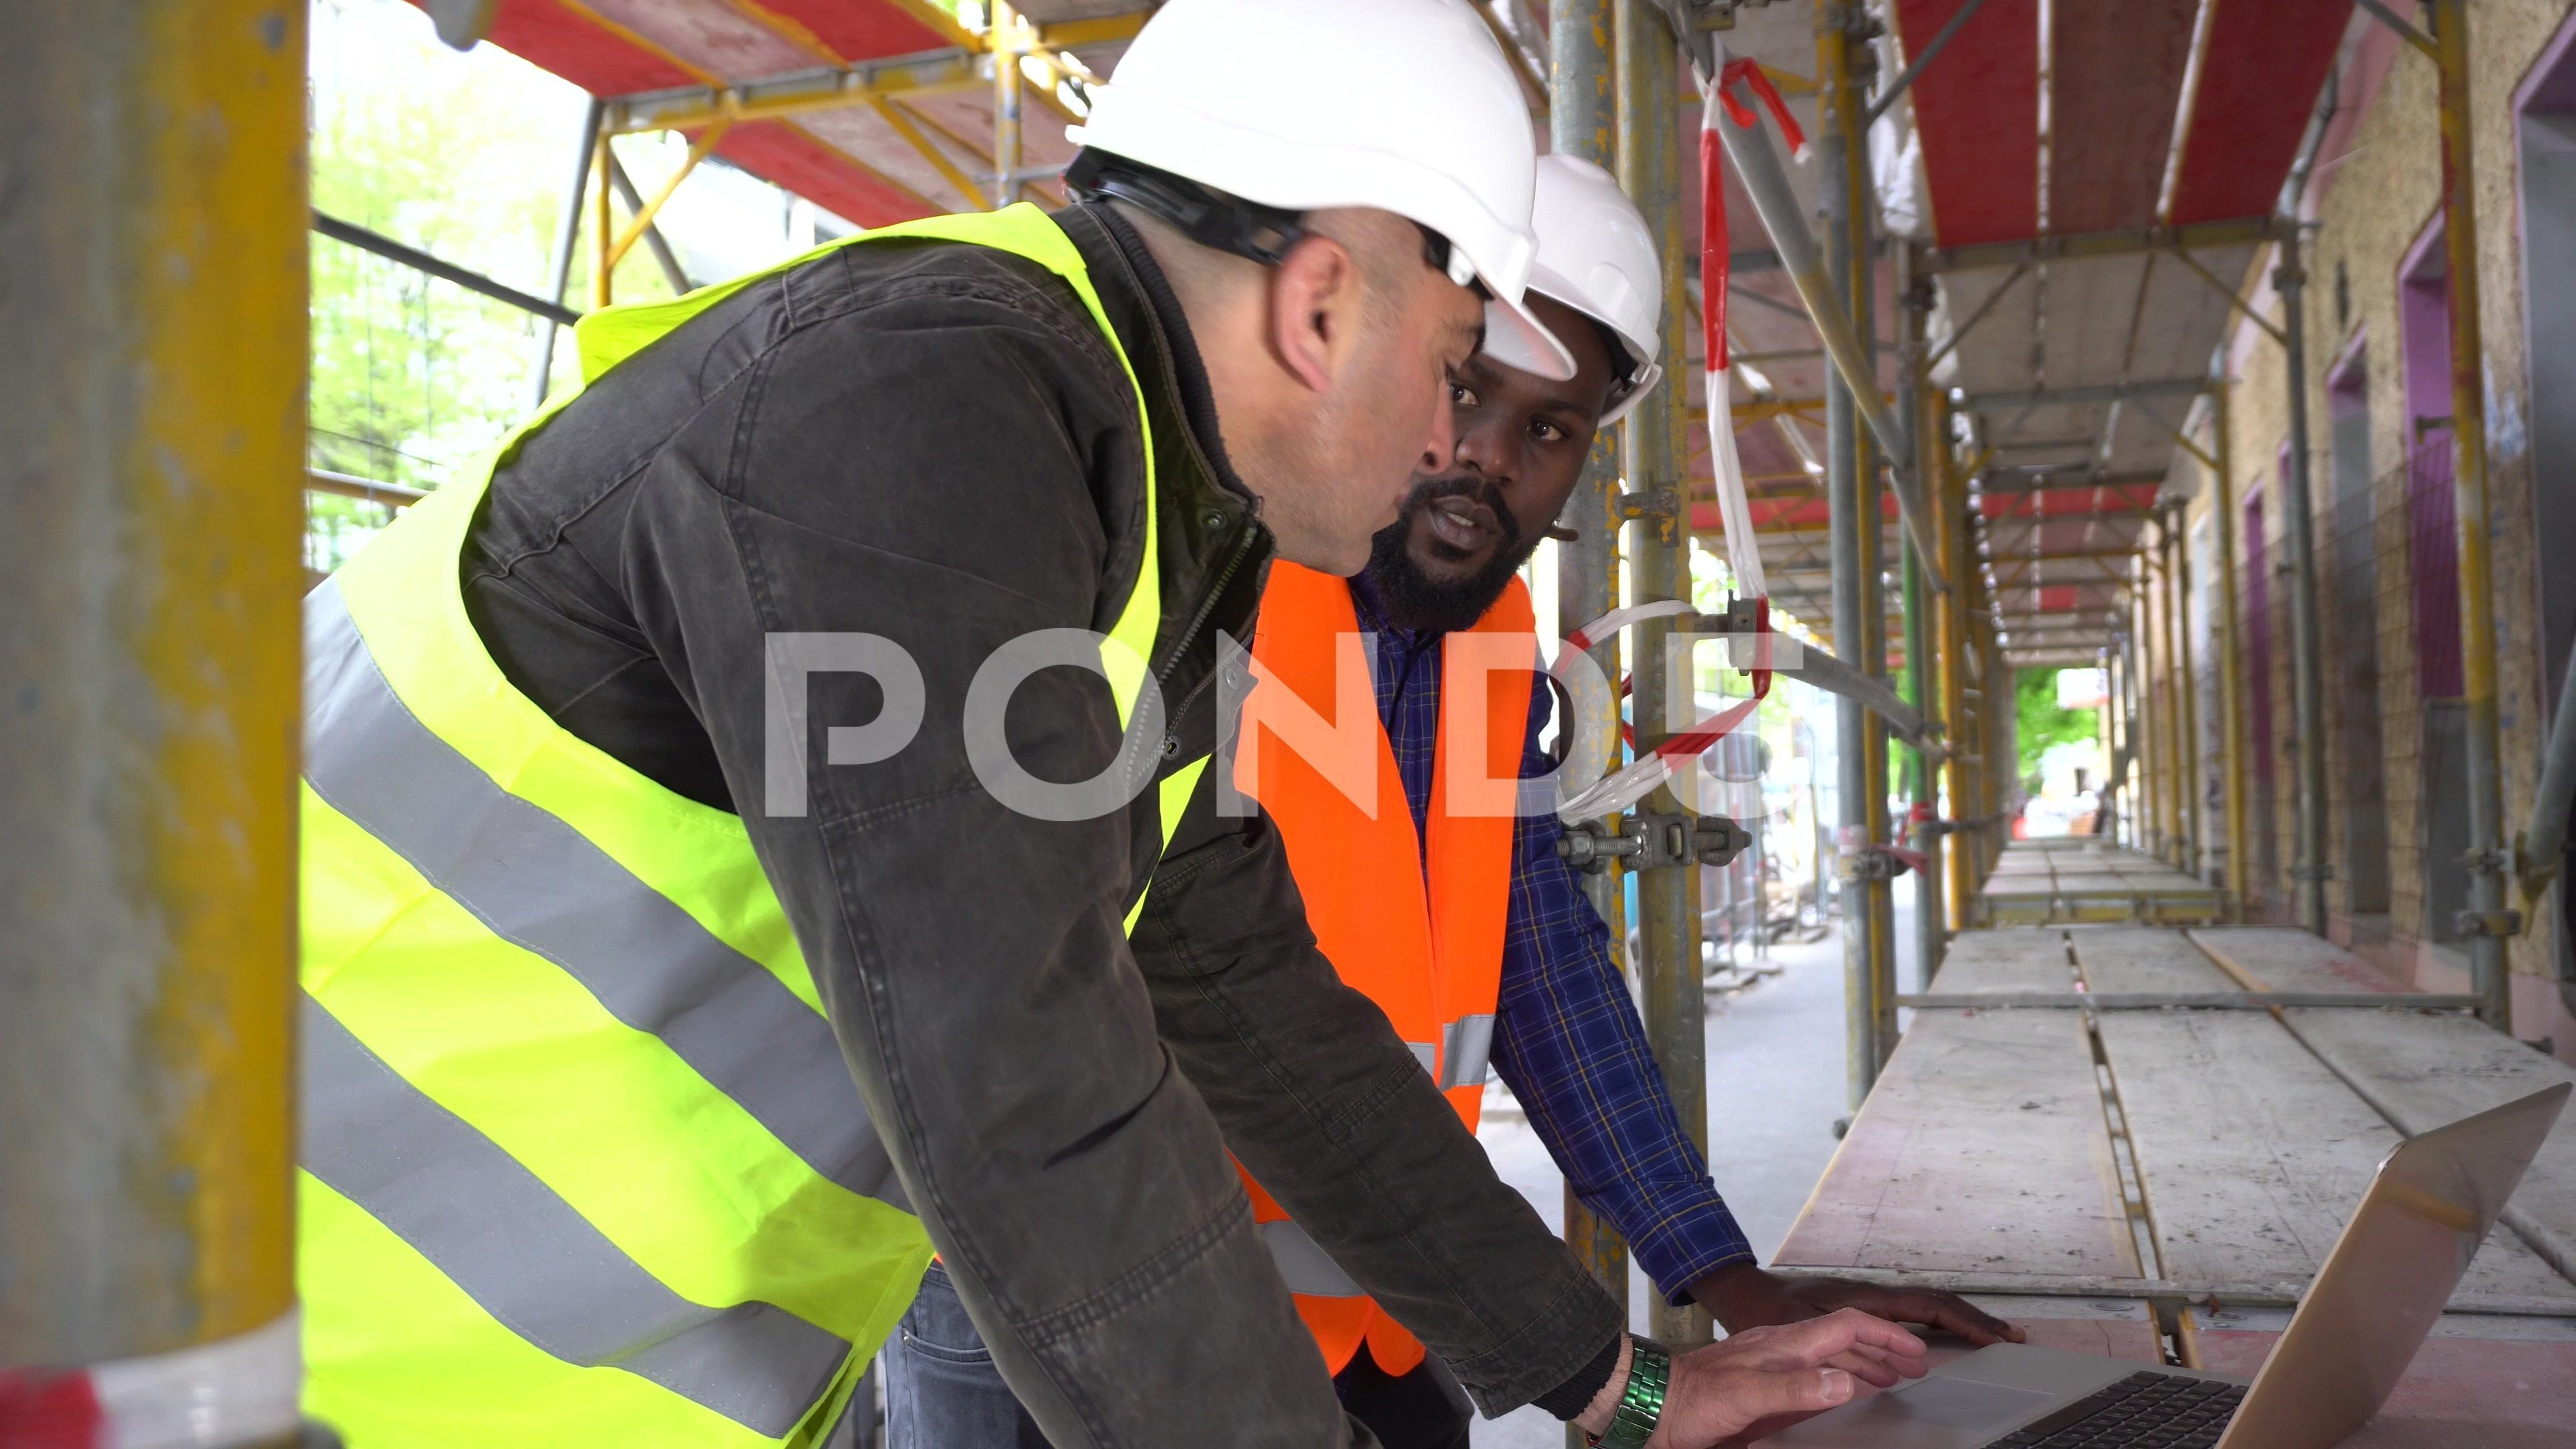hat: (1003, 0, 1606, 410), (1376, 157, 1789, 617)
vest: (295, 119, 1231, 1449), (1081, 538, 1882, 1449)
